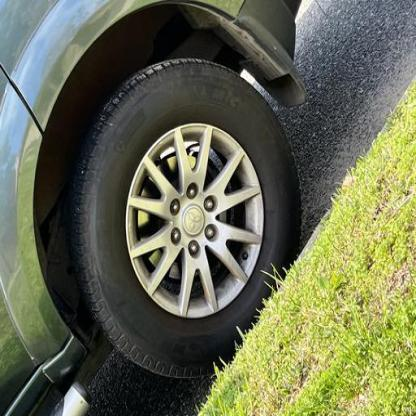Tire: (67, 58, 303, 376)
